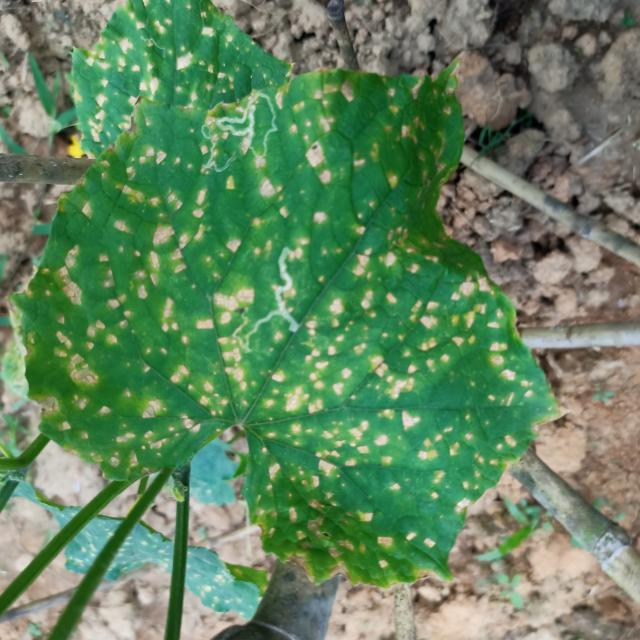disease_cucumber: (43, 85, 509, 547)
